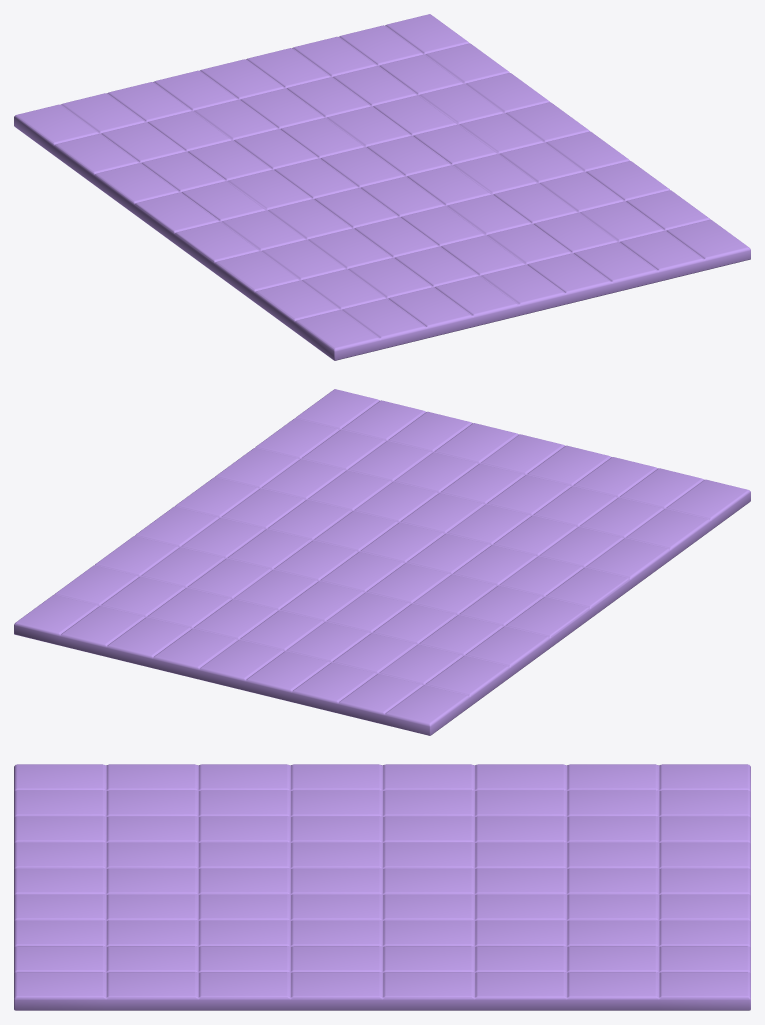
The model's file is duvarseramik2.fbx.
3 views of the same model, one above another, from view 1: azimuth 30°, elevation 25°; view 2: azimuth 150°, elevation 25°; view 3: azimuth 270°, elevation 25° (orthographic). The views are drawn at different scales.
Visible parts, largest first — view 1: m-seramic; view 2: m-seramic; view 3: m-seramic.
Boxes of the visible parts, box(x1,y1,x2,y2) form: m-seramic: box(14, 14, 750, 360); m-seramic: box(14, 389, 750, 735); m-seramic: box(14, 764, 750, 1010).
Size of the model in its own units: 15 by 0.42 by 20.
